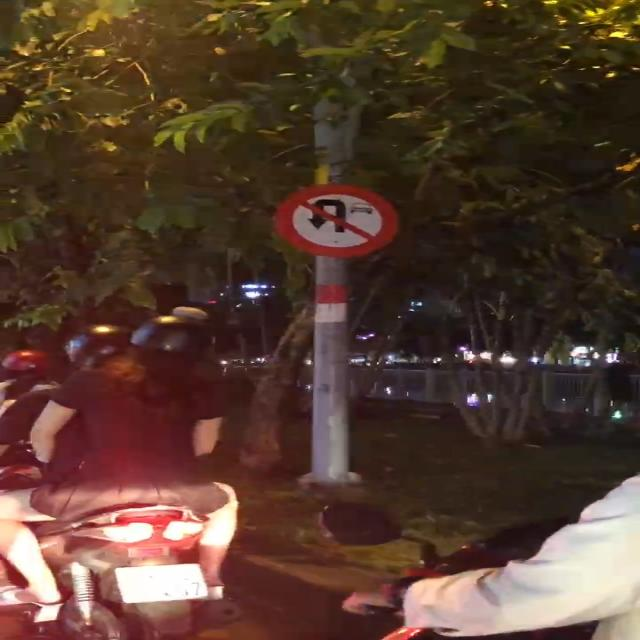Bien bao cam quay dau xe: (268, 182, 413, 260)
